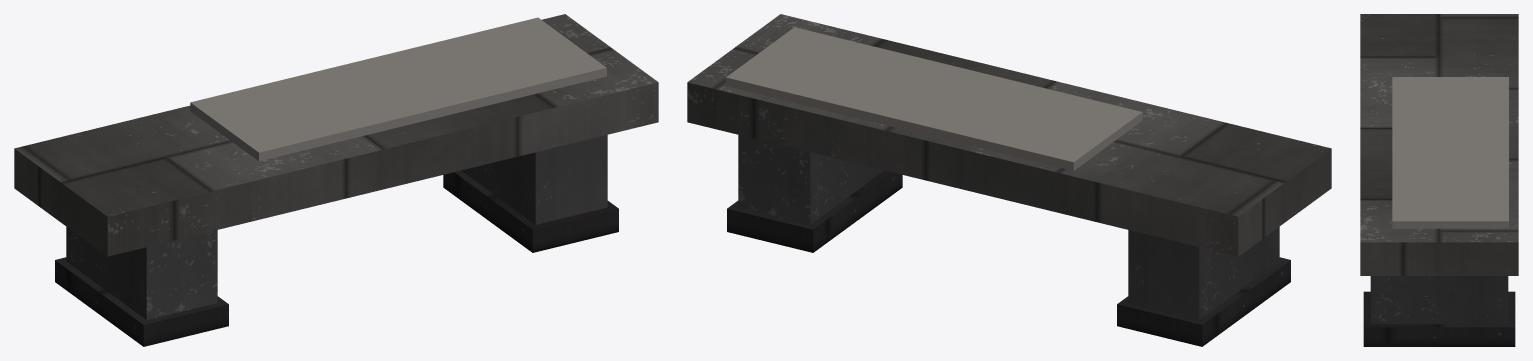
File: PlazaBanco.gltf
3 renders of one model, left to right at view 1: azimuth 30°, elevation 25°; view 2: azimuth 150°, elevation 25°; view 3: azimuth 270°, elevation 25°, orthographic. The views are drawn at different scales.
Parts seen in each view (by area): view 1: PlazaBanco; view 2: PlazaBanco; view 3: PlazaBanco.
Part boxes in pixels (bbox=[...]): PlazaBanco: bbox=[14, 14, 658, 346]; PlazaBanco: bbox=[687, 14, 1331, 346]; PlazaBanco: bbox=[1360, 14, 1518, 346].
Size of the model in its own units: 2.41 by 0.6283 by 0.7066.
4 materials, 3 textured.
